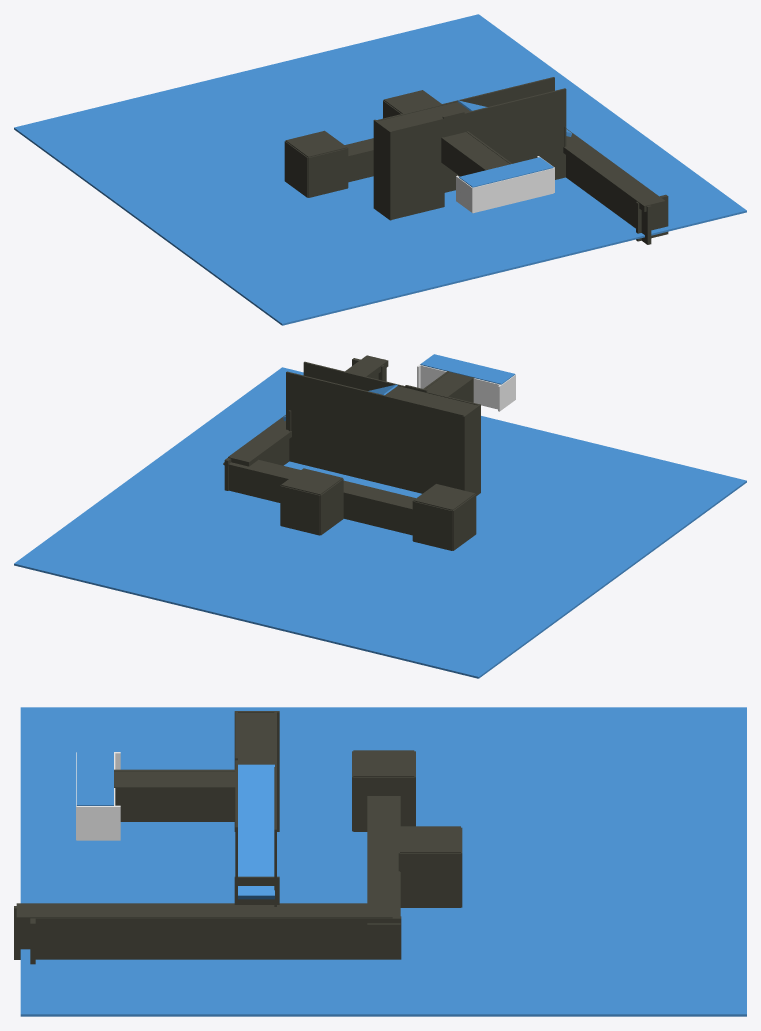
The picture shows the model from 3 angles, top to bottom: view 1: azimuth 30°, elevation 25°; view 2: azimuth 150°, elevation 25°; view 3: azimuth 270°, elevation 25°; orthographic projection. The views are drawn at different scales.
Visible parts, largest first — view 1: Cube, Cube.027, Cube.028, Cube.025, Cube.040, Cube.022, Cube.029, Cube.024, Cube.004, Cube.039, Cube.002, Cube.030 (+6 smaller); view 2: Cube, Cube.024, Cube.025, Cube.010, Cube.008, Cube.018, Cube.001, Cube.029, Cube.012, Cube.039, Cube.027, Cube.030 (+6 smaller); view 3: Cube, Cube.011, Cube.025, Cube.031, Cube.037, Cube.010, Cube.019, Cube.039, Cube.030, Cube.034, Cube.005, Cube.015 (+7 smaller).
Boxes of the visible parts, box(x1,y1,x2,y2) form: Cube: box(14, 14, 746, 325); Cube.027: box(464, 88, 566, 179); Cube.028: box(390, 118, 444, 219); Cube.025: box(563, 128, 665, 211); Cube.040: box(473, 168, 553, 212); Cube.022: box(566, 155, 651, 244); Cube.029: box(373, 119, 391, 220); Cube.024: box(375, 77, 554, 192); Cube.004: box(308, 148, 347, 197); Cube.039: box(459, 157, 553, 187); Cube.002: box(284, 141, 308, 197); Cube.030: box(378, 102, 469, 130); Cube: box(14, 367, 746, 678); Cube.024: box(286, 371, 464, 493); Cube.025: box(228, 355, 388, 466); Cube.010: box(223, 459, 415, 510); Cube.008: box(343, 494, 412, 535); Cube.018: box(280, 485, 320, 535); Cube.001: box(413, 501, 452, 550); Cube.029: box(462, 404, 480, 495); Cube.012: box(228, 466, 286, 502); Cube.039: box(420, 354, 515, 384); Cube.027: box(303, 361, 405, 390); Cube.030: box(385, 386, 476, 414); Cube: box(20, 707, 746, 1016); Cube.011: box(35, 916, 401, 959); Cube.025: box(16, 903, 392, 925); Cube.031: box(238, 764, 274, 899); Cube.037: box(114, 786, 235, 820); Cube.010: box(367, 796, 400, 926); Cube.019: box(400, 853, 460, 907); Cube.039: box(76, 751, 113, 805); Cube.030: box(238, 713, 274, 764); Cube.034: box(114, 771, 235, 785); Cube.005: box(353, 750, 414, 777); Cube.015: box(400, 826, 460, 853).
Bounding box in the file's own units: 262 × 52.61 × 264.
